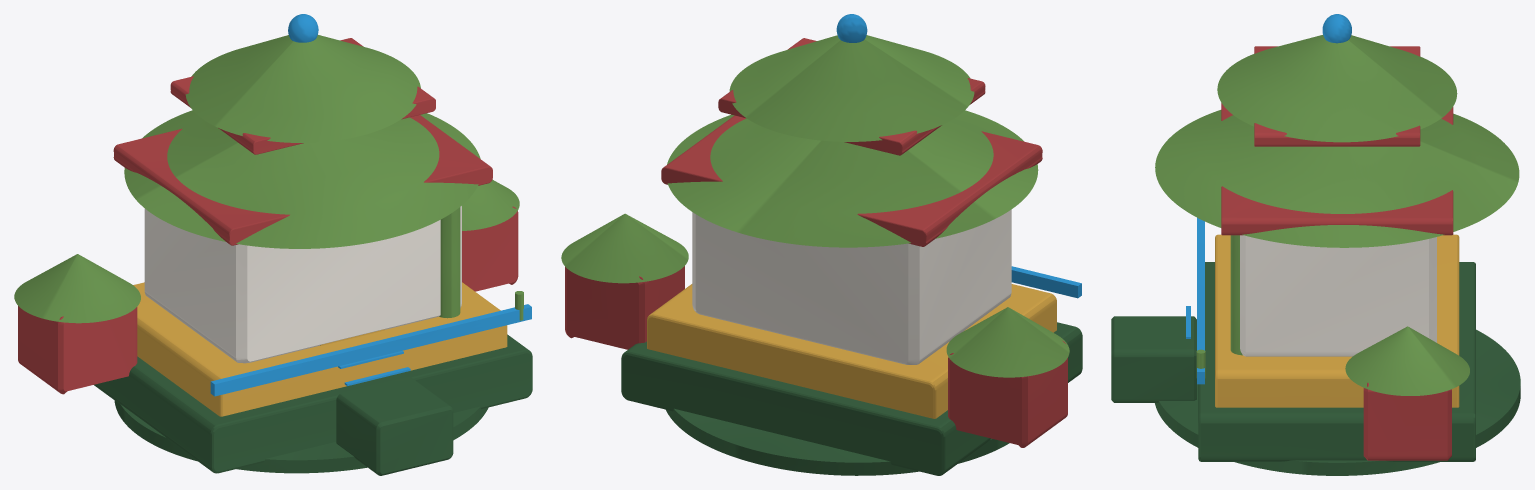
The model's file is 1254_三国演义1_陈宫.glb.
3 views of the same model, side by side, from view 1: azimuth 30°, elevation 25°; view 2: azimuth 150°, elevation 25°; view 3: azimuth 270°, elevation 25° (orthographic).
Visible parts, largest first — view 1: card_1254; view 2: card_1254; view 3: card_1254.
Part boxes in pixels (<box>): card_1254: <box>14,14,532,475</box>; card_1254: <box>561,14,1082,475</box>; card_1254: <box>1111,14,1520,475</box>.
Bounding box in the file's own units: 1.35 × 1 × 0.9765.
